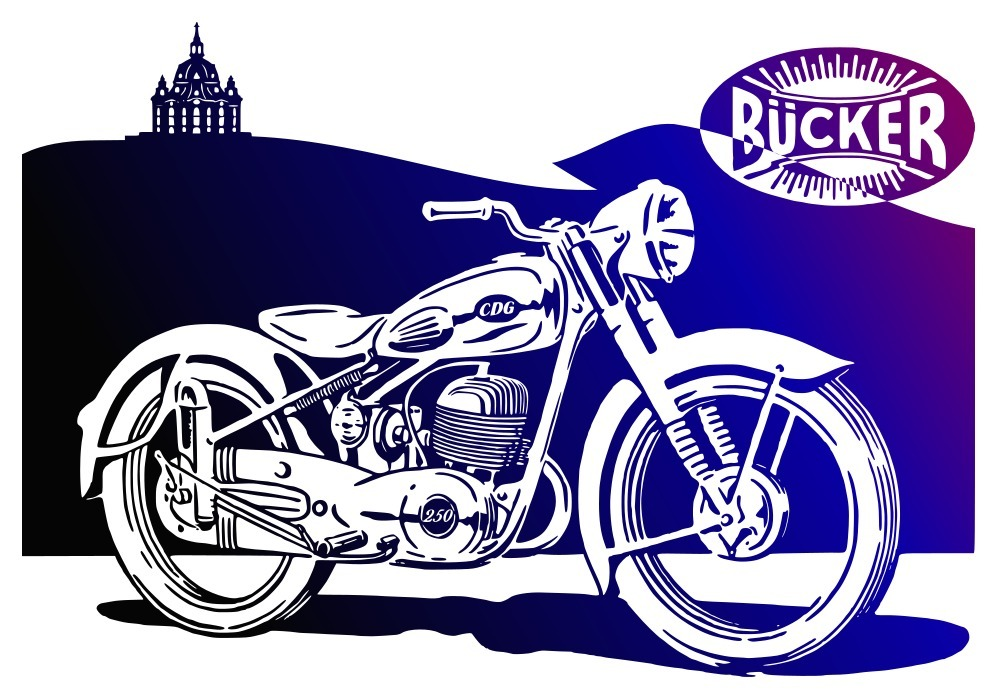motorbike: (75, 177, 903, 674)
